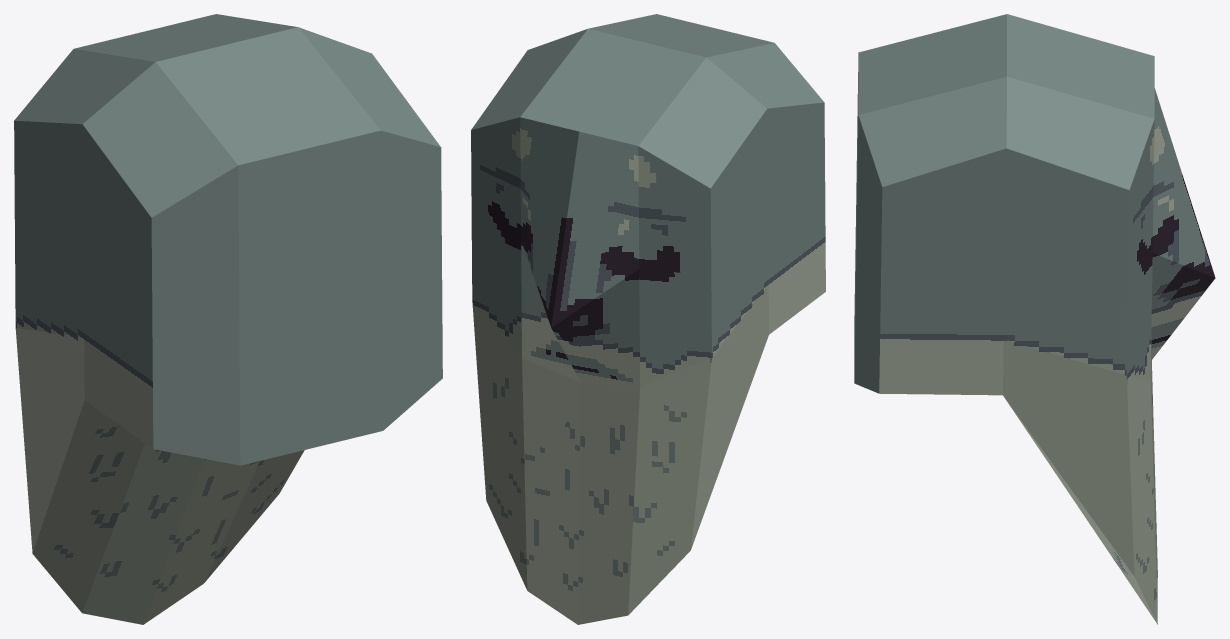
Rendered from god_head.glb.
The picture shows the model from 3 angles, left to right: view 1: azimuth 30°, elevation 25°; view 2: azimuth 150°, elevation 25°; view 3: azimuth 270°, elevation 25°; orthographic projection. The views are drawn at different scales.
Visible parts, largest first — view 1: Cube.200; view 2: Cube.200; view 3: Cube.200.
Part boxes in pixels (x1,y1,x2,y2): Cube.200: (14,14,442,624); Cube.200: (471,14,825,624); Cube.200: (854,14,1215,624).
Size of the model in its own units: 2.1 by 4.45 by 2.52.
1 material, 1 textured.
